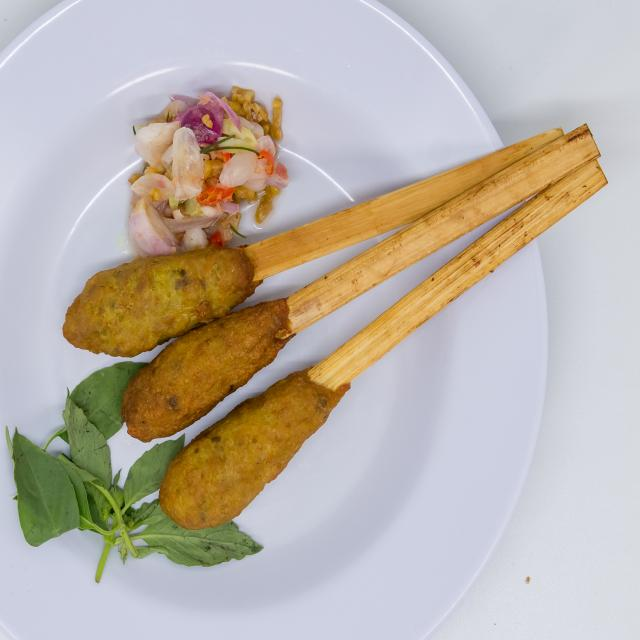Sate-Lilit: (51, 61, 592, 543)
